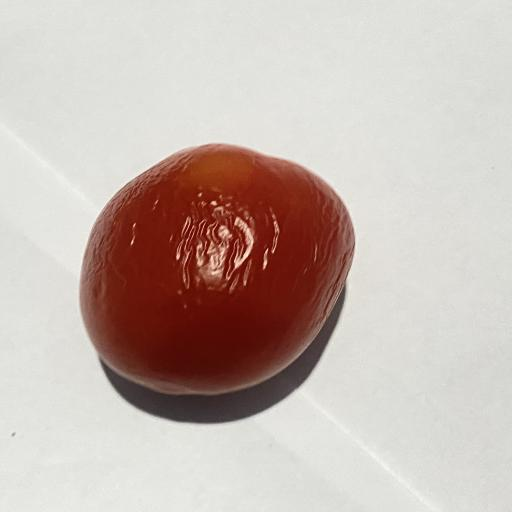spoiled: (80, 145, 354, 395)
